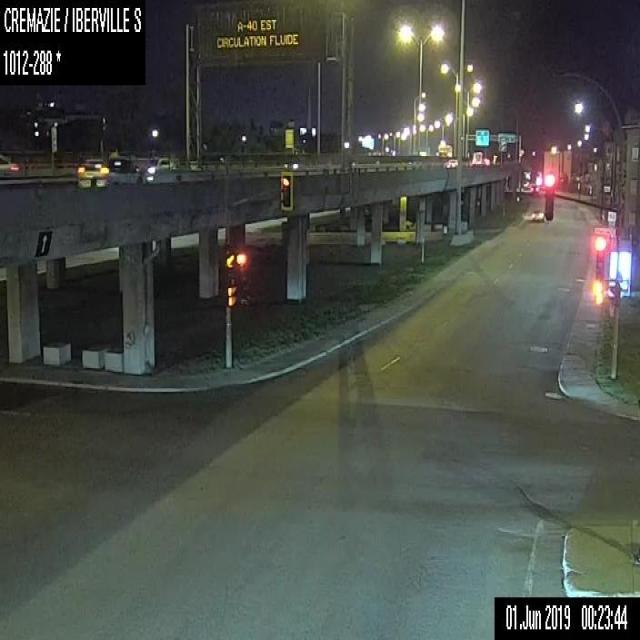vehicle: (74, 153, 144, 184), (138, 156, 175, 182), (0, 152, 20, 172), (529, 208, 545, 222), (438, 142, 452, 156), (442, 158, 458, 168), (471, 150, 482, 163), (482, 158, 489, 164)
